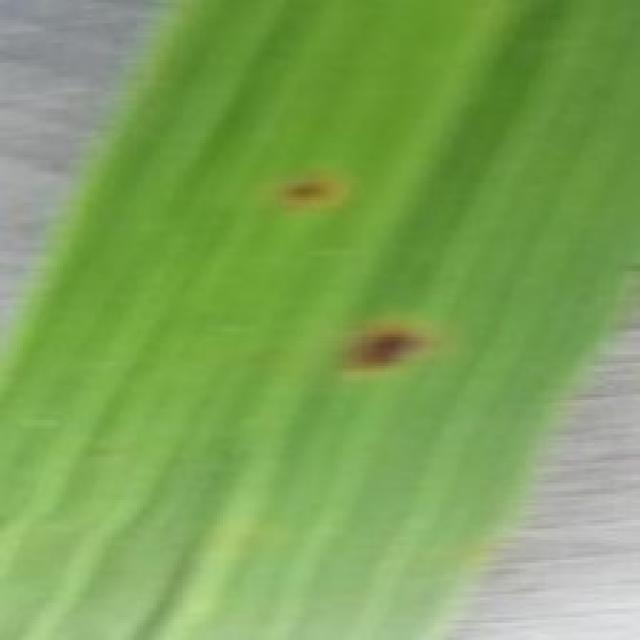Rice___Brown_Spot: (0, 2, 637, 637)
